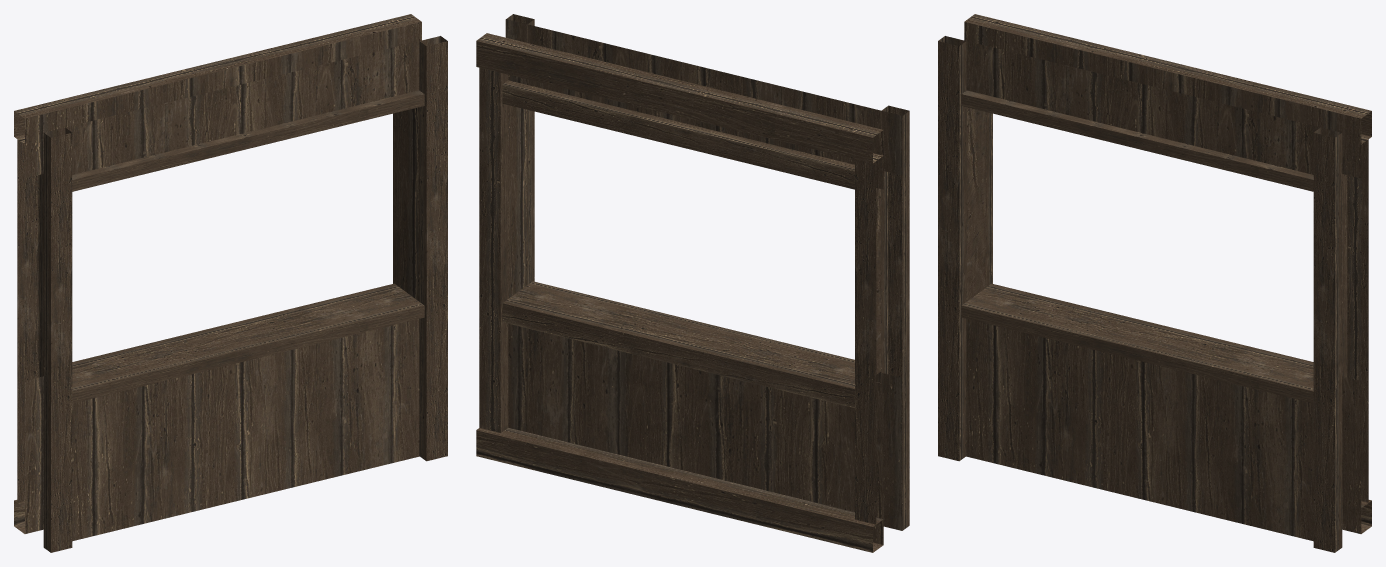
Rendered from ARC1010311.fbx.
The picture shows the model from 3 angles, left to right: view 1: azimuth 30°, elevation 25°; view 2: azimuth 150°, elevation 25°; view 3: azimuth 330°, elevation 25°; orthographic projection.
Visible parts, largest first — view 1: smARC1010311; view 2: smARC1010311; view 3: smARC1010311.
Boxes of the visible parts, x1,y1,x2,y2 form: smARC1010311: (14, 14, 447, 552); smARC1010311: (476, 14, 909, 552); smARC1010311: (938, 14, 1371, 552).
Size of the model in its own units: 268 by 268 by 43.17.
1 material, 1 textured.
